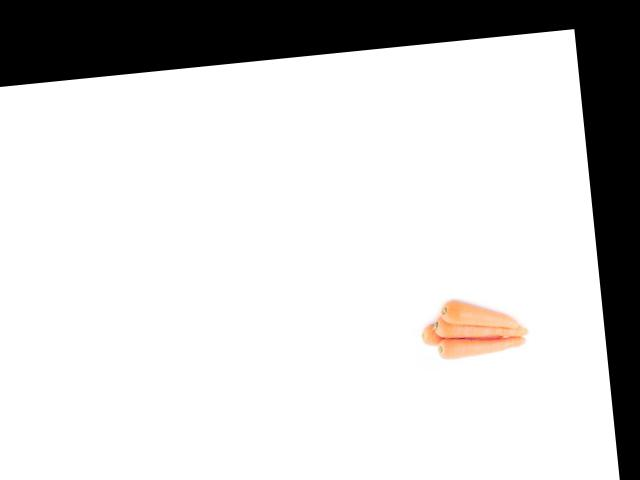carrot: (437, 294, 521, 327)
